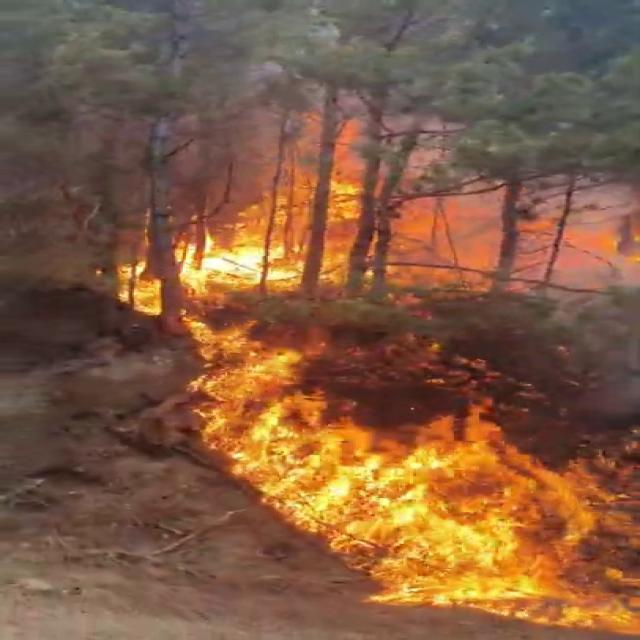Fire: (102, 359, 640, 631), (87, 130, 482, 336)
